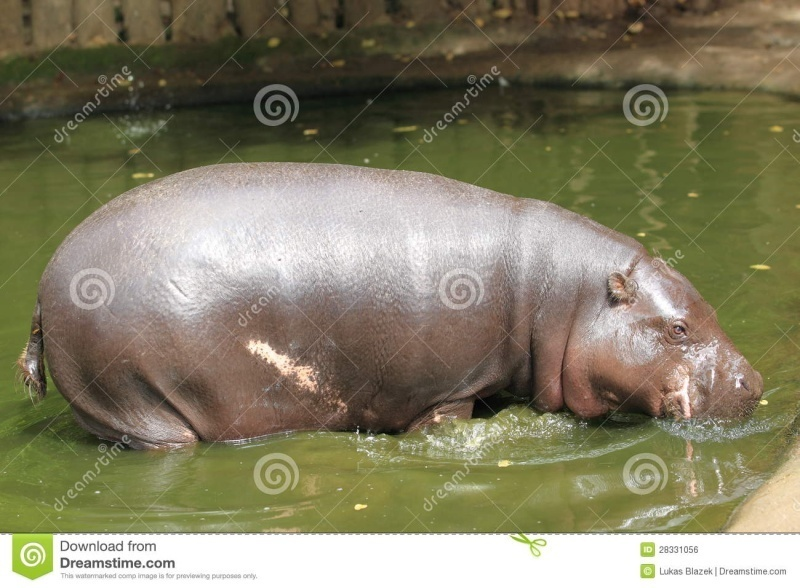hipopotamo: (24, 157, 773, 481)
